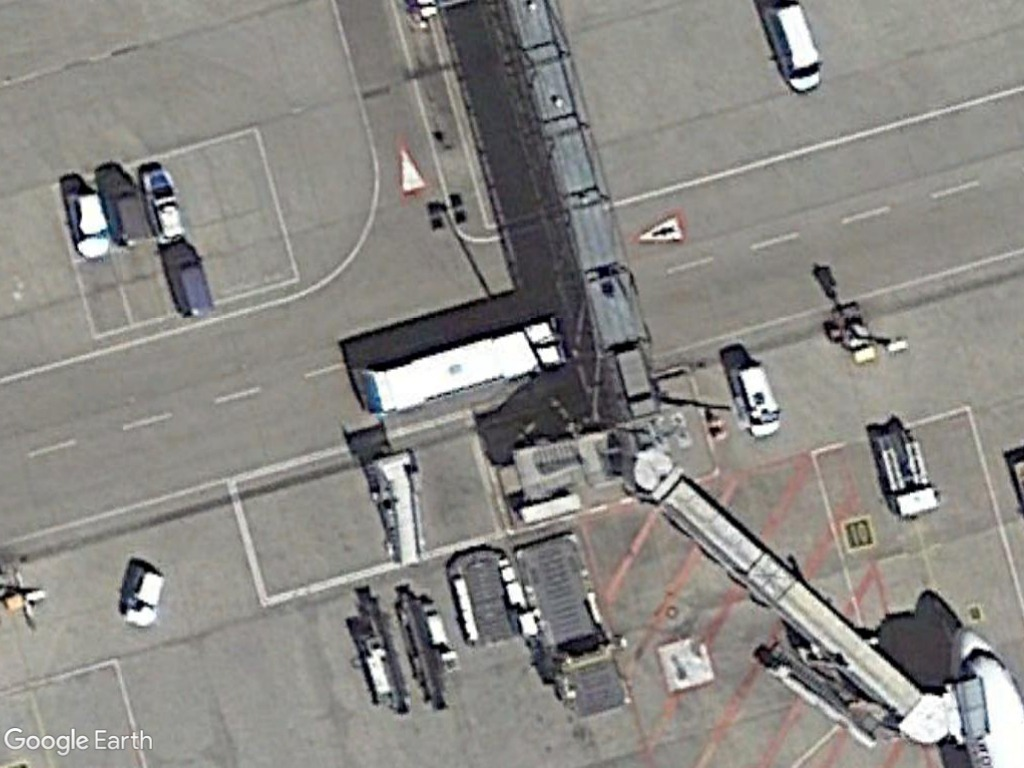longvehicle: (351, 310, 574, 418)
pushbacktruck: (871, 424, 942, 519)
stairtruck: (360, 446, 432, 568)
van: (759, 0, 826, 93), (160, 237, 218, 320), (727, 359, 783, 439)
